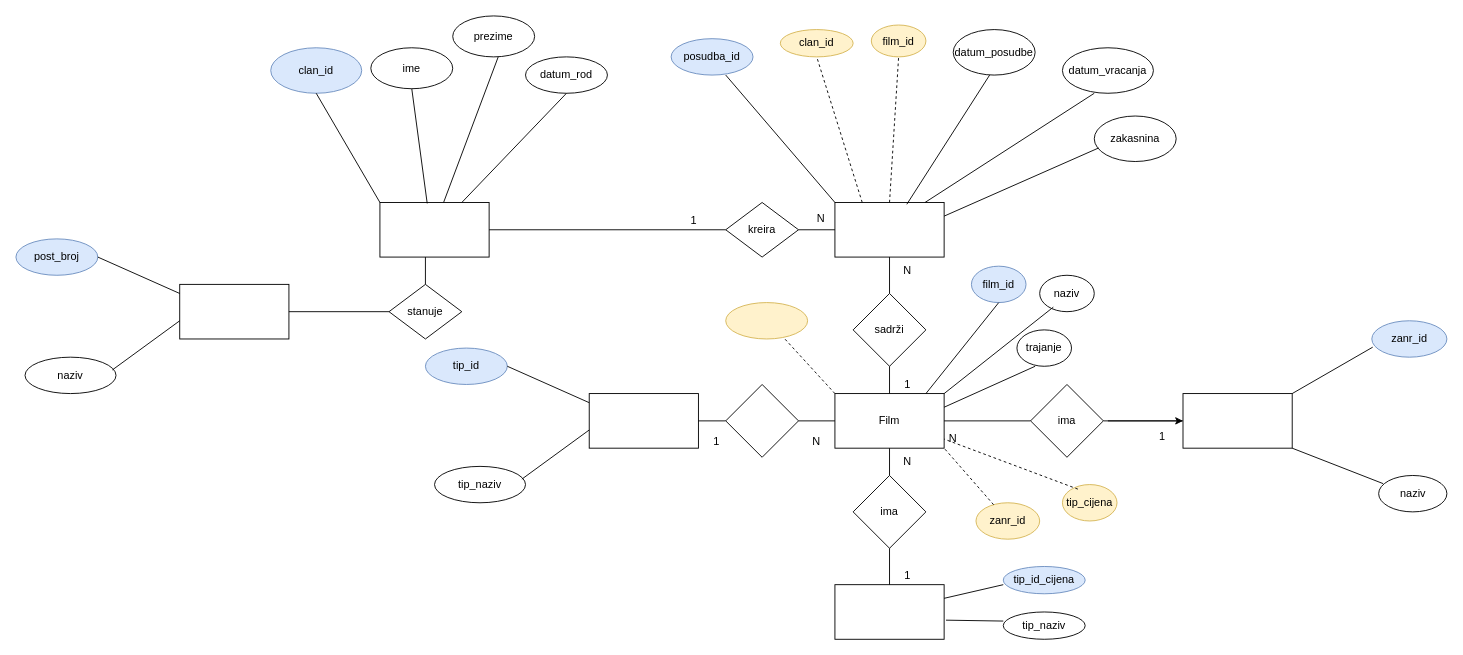
Some shapes in this 1463 by 655 pixel diagram are drawn without their labels. The shapes that lost their labels are listed below. From the top down, each one's box as (x1, y1, x2, y2) in pixels, then its label:
(379, 202, 489, 257): Član
(834, 202, 944, 257): Posudba
(179, 283, 289, 339): Mjesto
(725, 302, 808, 339): tip_medij
(588, 393, 698, 448): Medij
(725, 384, 799, 457): sprema
(1182, 393, 1292, 448): Žanr
(834, 584, 944, 639): Cjenik
